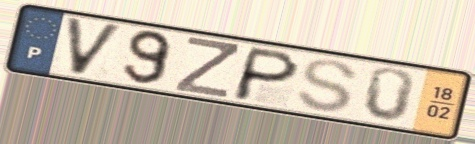0: (362, 66, 419, 124)
9: (121, 29, 175, 87)
P: (228, 44, 303, 104)
S: (295, 57, 362, 115)
V: (63, 15, 127, 79)
Z: (172, 34, 241, 100)
